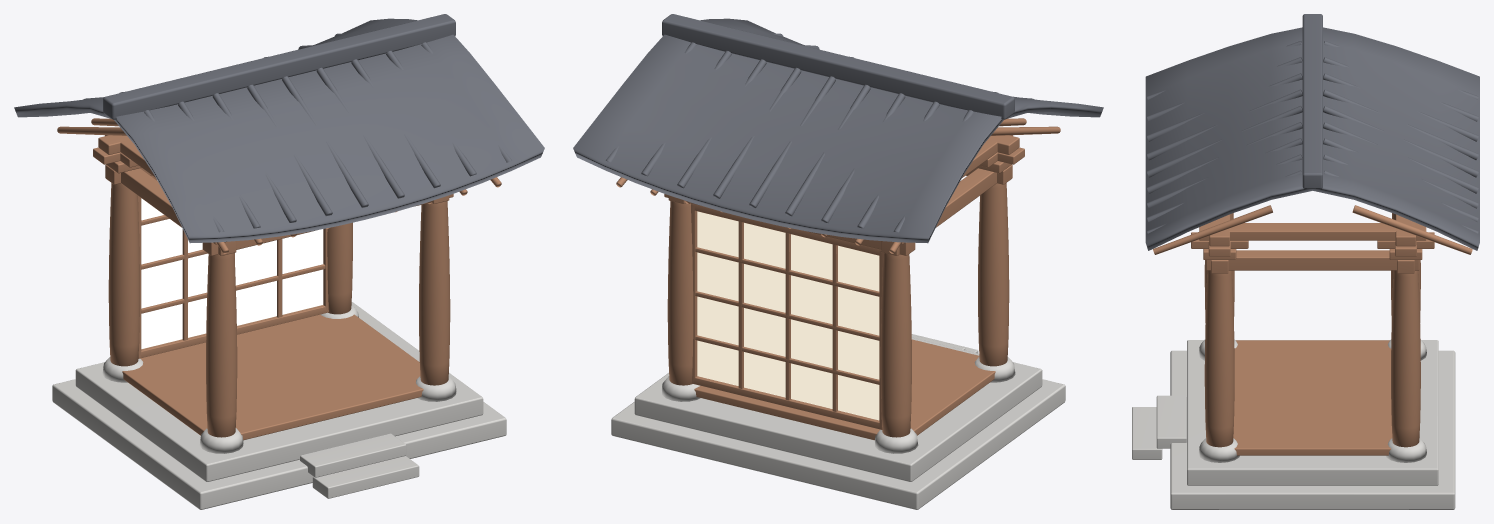
Rendered from webtoon-hanok-paljak-pavilion-bay-v13.glb.
3 renders of one model, left to right at view 1: azimuth 30°, elevation 25°; view 2: azimuth 150°, elevation 25°; view 3: azimuth 270°, elevation 25°, orthographic. The views are drawn at different scales.
Parts seen in each view (by area): view 1: HanokGiwaRoof, HanokZelkovaTimber, HanokGraniteGidan, HanokHanjiScreen; view 2: HanokGiwaRoof, HanokZelkovaTimber, HanokGraniteGidan, HanokHanjiScreen; view 3: HanokGiwaRoof, HanokZelkovaTimber, HanokGraniteGidan.
Part boxes in pixels (left/top/right/bottom): HanokGiwaRoof: left=14, top=14, right=544, bottom=243; HanokZelkovaTimber: left=57, top=118, right=501, bottom=440; HanokGraniteGidan: left=52, top=302, right=506, bottom=509; HanokHanjiScreen: left=141, top=180, right=323, bottom=349; HanokGiwaRoof: left=573, top=14, right=1103, bottom=243; HanokZelkovaTimber: left=616, top=118, right=1060, bottom=440; HanokGraniteGidan: left=611, top=334, right=1065, bottom=509; HanokHanjiScreen: left=697, top=211, right=879, bottom=420; HanokGiwaRoof: left=1145, top=14, right=1479, bottom=250; HanokZelkovaTimber: left=1153, top=205, right=1472, bottom=455; HanokGraniteGidan: left=1132, top=339, right=1455, bottom=509.
Bounding box in the file's own units: 2.88 × 2.79 × 2.54.
